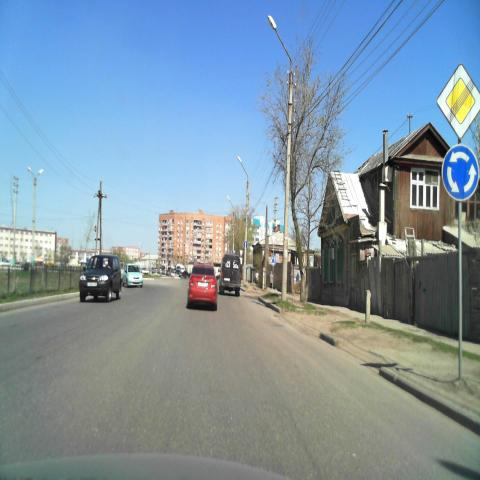4_3: (442, 144, 480, 201)
